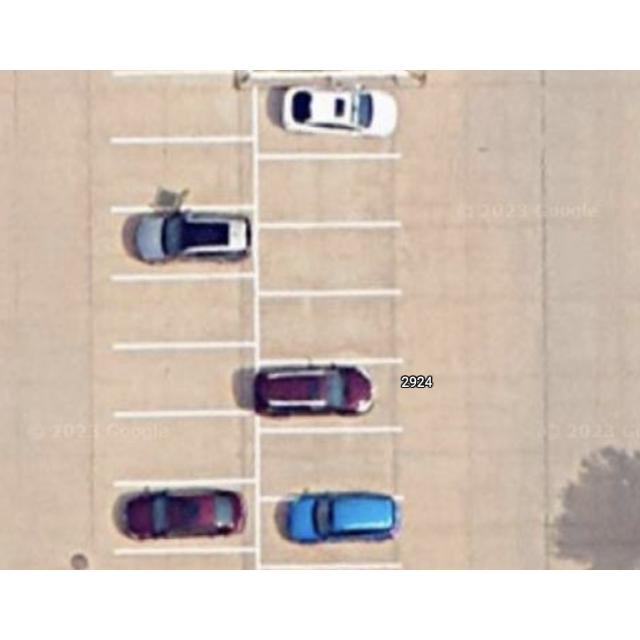Empty: (112, 343, 258, 413), (109, 482, 257, 550), (114, 138, 252, 210), (114, 275, 252, 345), (256, 159, 404, 223), (258, 294, 400, 360), (114, 74, 252, 140), (112, 416, 254, 480), (259, 226, 401, 290), (260, 430, 402, 492)
Parked: (258, 74, 404, 154), (259, 494, 405, 570), (253, 362, 402, 430), (113, 208, 255, 278)
